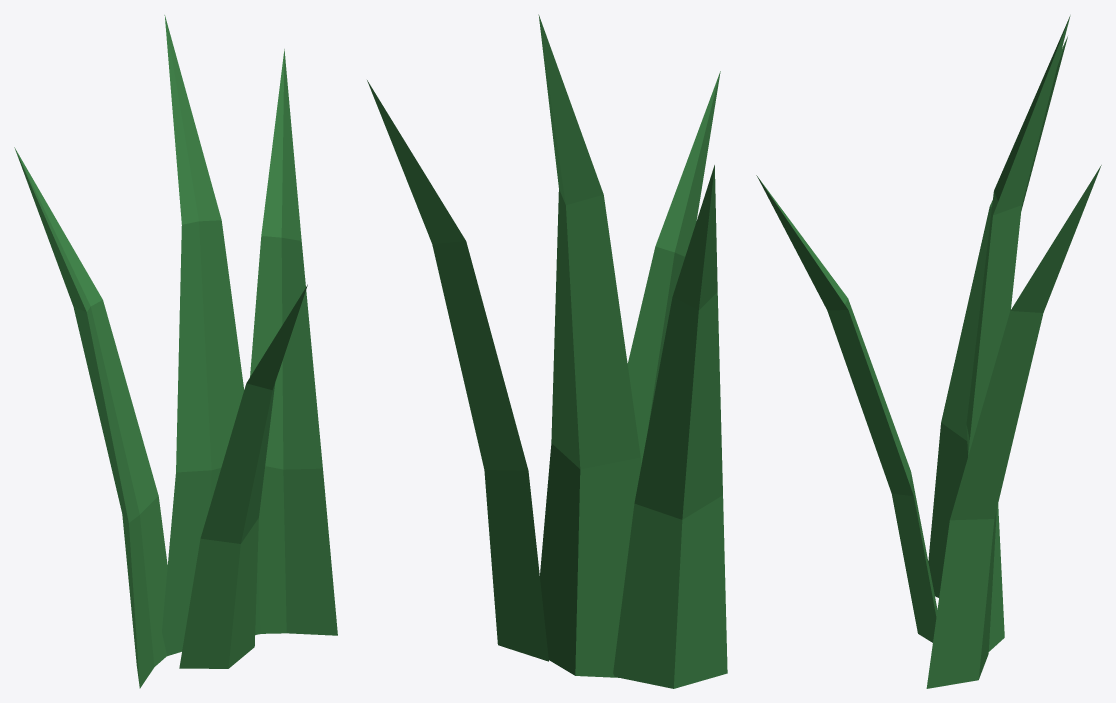
Rendered from Grass01.fbx.
3 renders of one model, left to right at view 1: azimuth 30°, elevation 25°; view 2: azimuth 150°, elevation 25°; view 3: azimuth 270°, elevation 25°, orthographic. The views are drawn at different scales.
Parts seen in each view (by area): view 1: Grass_01; view 2: Grass_01; view 3: Grass_01.
Boxes of the visible parts, x1=… form: Grass_01: x1=14, y1=15, x2=337, y2=688; Grass_01: x1=367, y1=14, x2=727, y2=688; Grass_01: x1=756, y1=15, x2=1101, y2=688.
Size of the model in its own units: 18.19 by 36.48 by 18.24.
